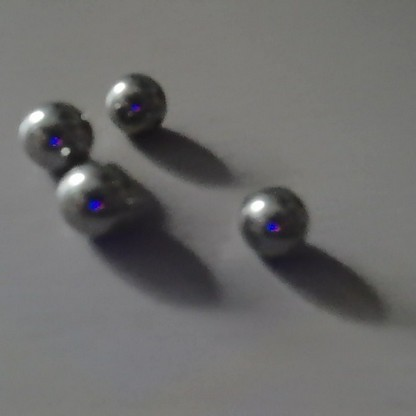ironball: (48, 155, 132, 239), (232, 184, 311, 266), (14, 101, 96, 174), (103, 68, 171, 141)
